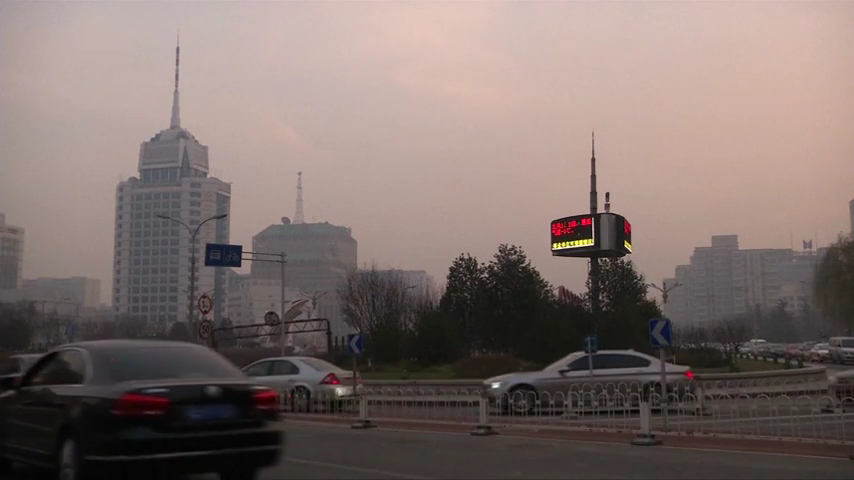car: (1, 337, 289, 479), (482, 349, 695, 415), (217, 353, 366, 415), (1, 353, 111, 421), (826, 337, 853, 361), (809, 342, 839, 361), (783, 341, 809, 361), (761, 342, 786, 362), (747, 338, 767, 360)
